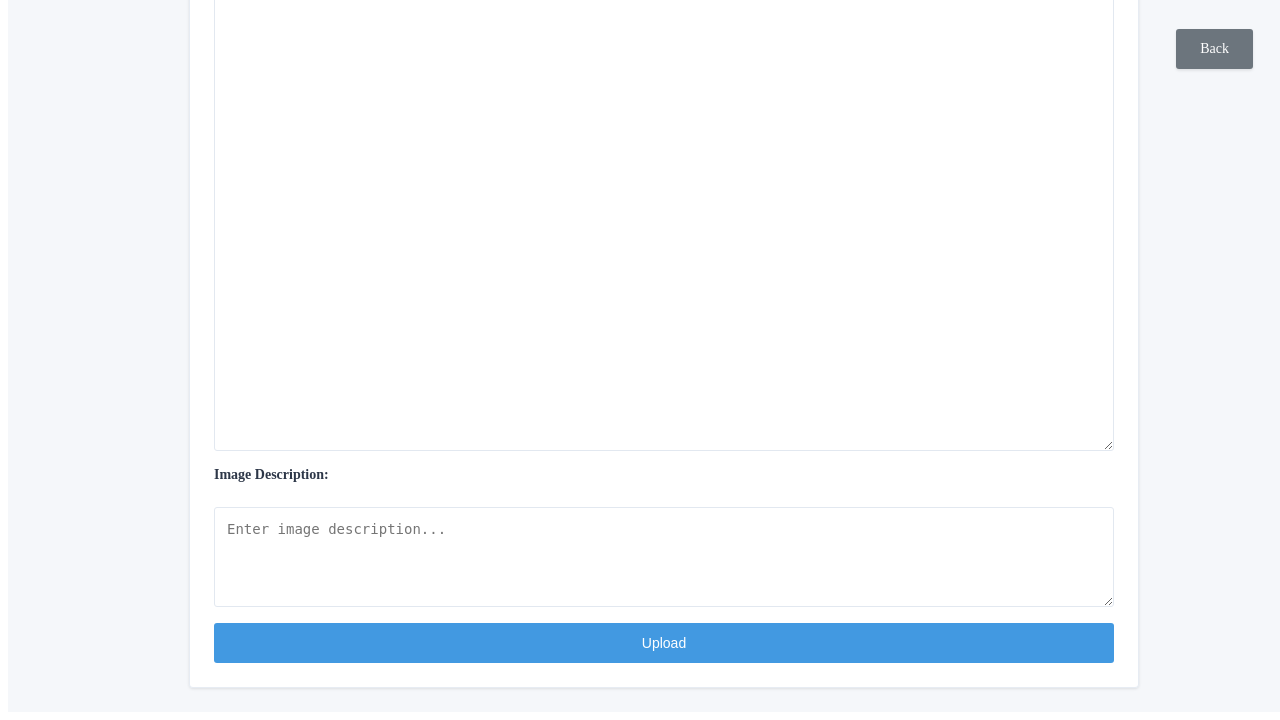
Test: UploadZPLPage › shows error message if image name is empty
The image size is (1280, 720).
(page scrolled)
Click the button "Upload" at (664, 643), box [214,623,1114,663]
(page scrolled)
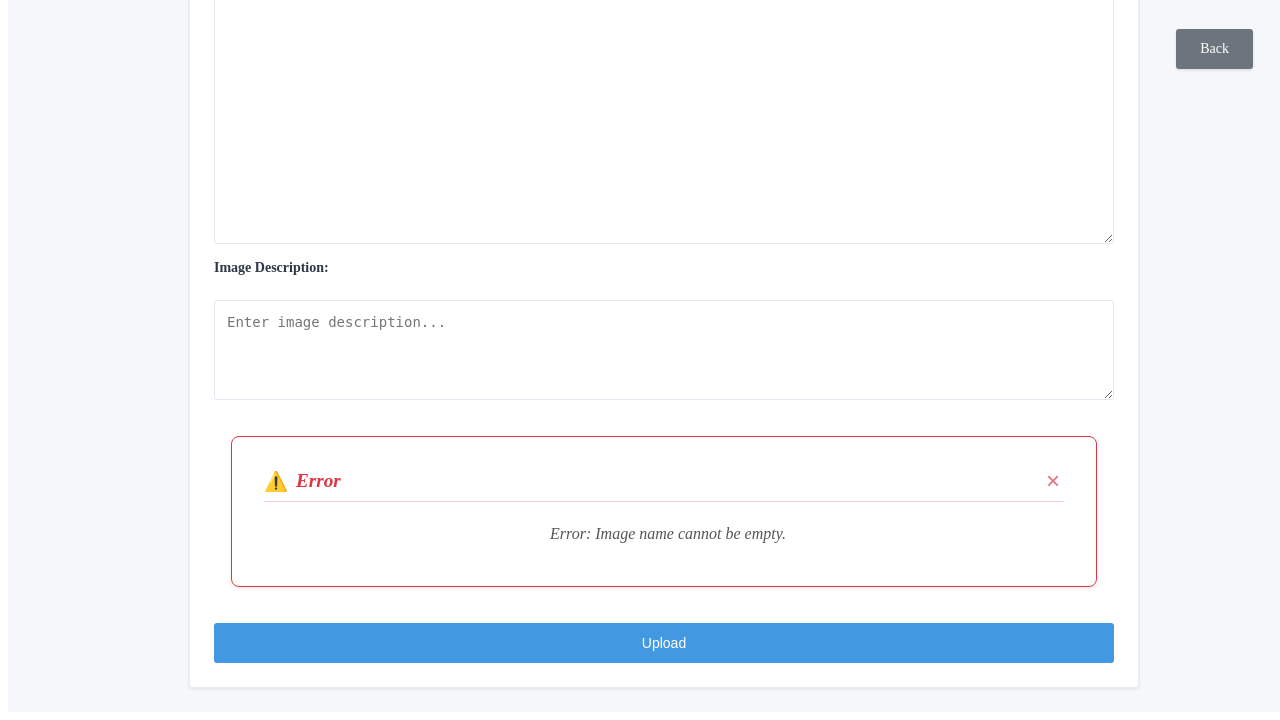
Result: the text "Error: Image name cannot be empty." is shown at [550,525,786,542]
